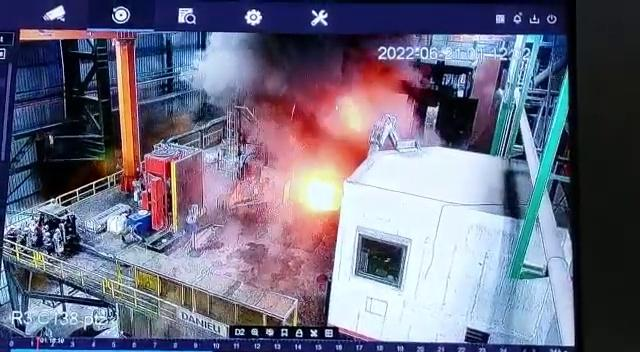fire: (226, 45, 415, 229)
